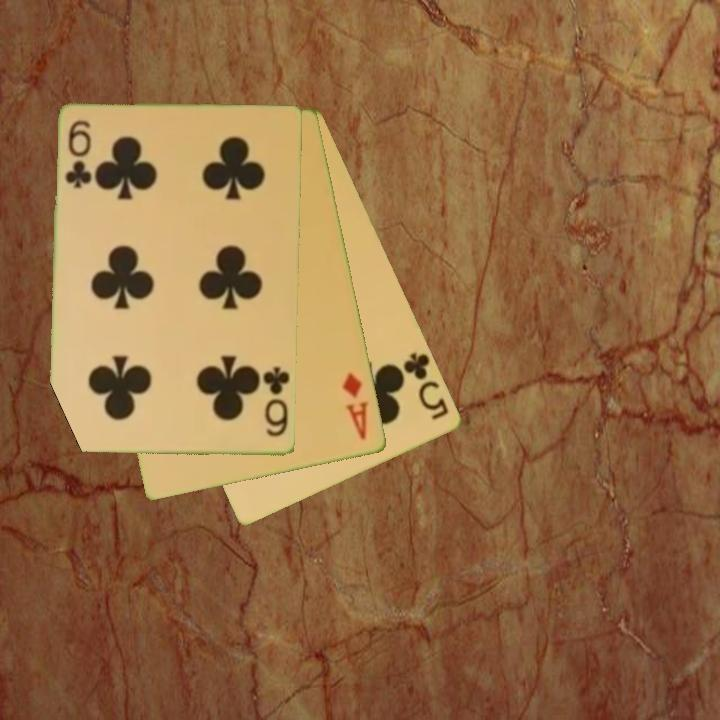5c: (400, 348, 453, 423)
6c: (259, 363, 293, 440), (62, 117, 93, 192)
Ad: (339, 369, 372, 444)
